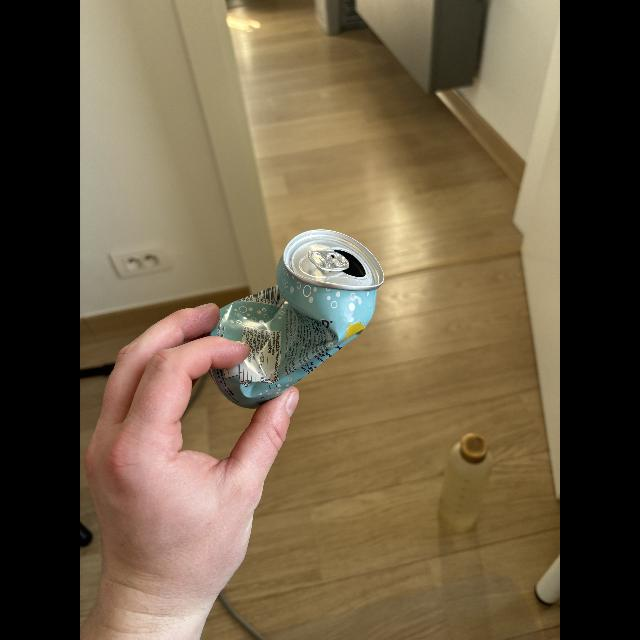Metal: (209, 228, 395, 424)
